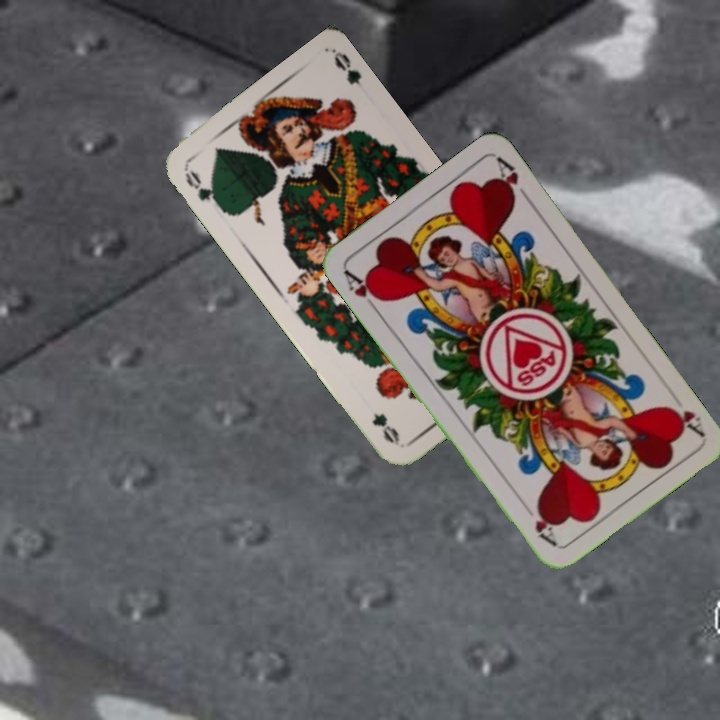GO: (180, 164, 225, 212)
HA: (340, 265, 386, 316), (661, 401, 706, 439)
